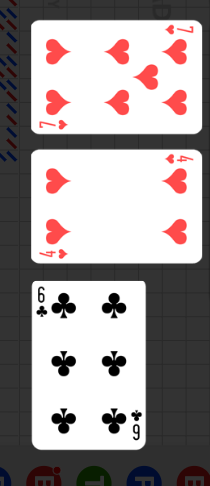6C: (35, 285, 49, 320), (129, 407, 143, 442)
7H: (163, 24, 195, 37)
